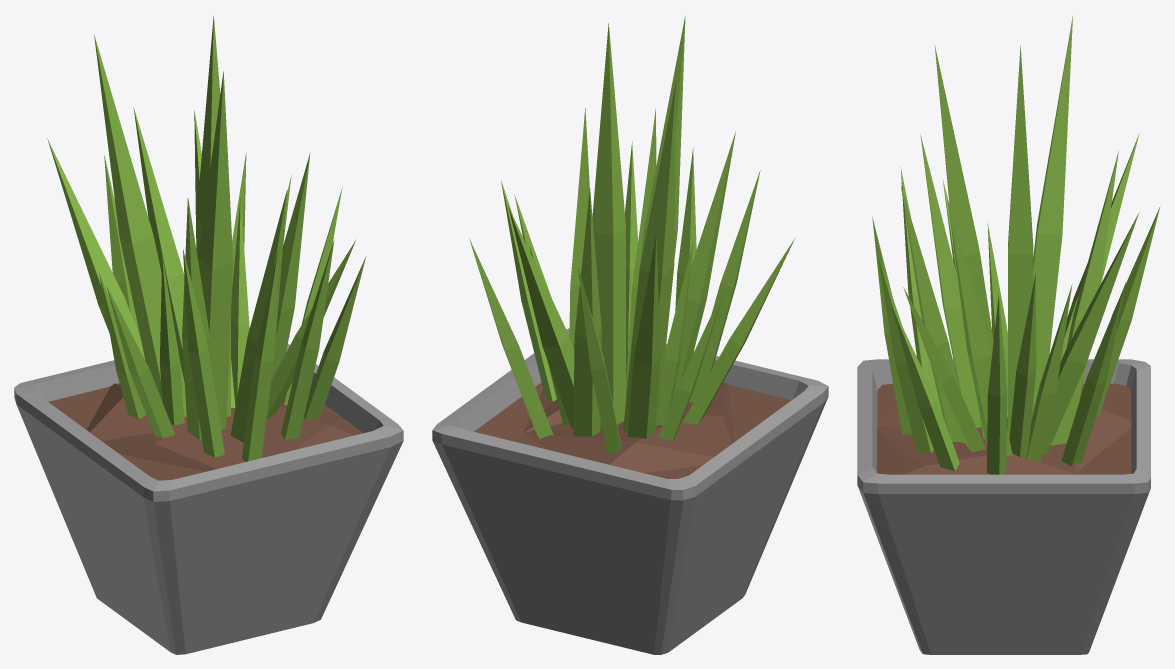
The model's file is small-indoor-grass-plant.glb.
The picture shows the model from 3 angles, left to right: view 1: azimuth 30°, elevation 25°; view 2: azimuth 150°, elevation 25°; view 3: azimuth 270°, elevation 25°; orthographic projection.
Parts seen in each view (by area): view 1: Node; view 2: Node; view 3: Node.
Boxes of the visible parts, <box> form: Node: <box>14,15,403,654</box>; Node: <box>432,14,828,654</box>; Node: <box>857,16,1160,654</box>.
Bounding box in the file's own units: 0.3643 × 0.7679 × 0.3624.
